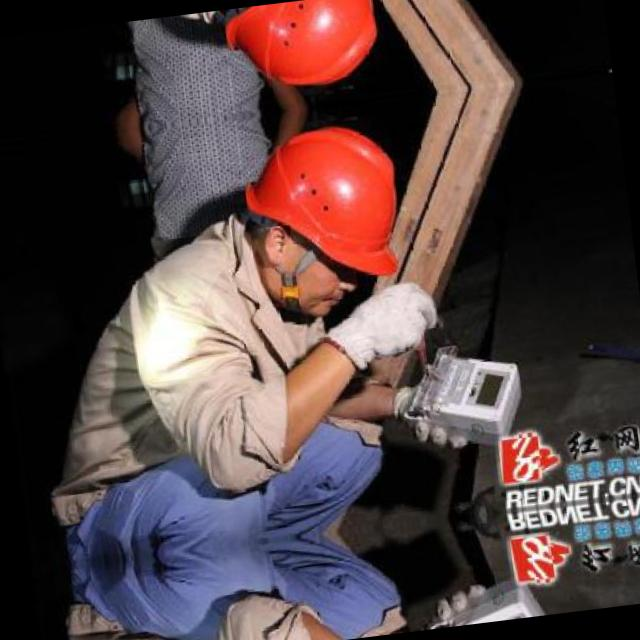helmet: (216, 102, 428, 324), (201, 0, 403, 111)
